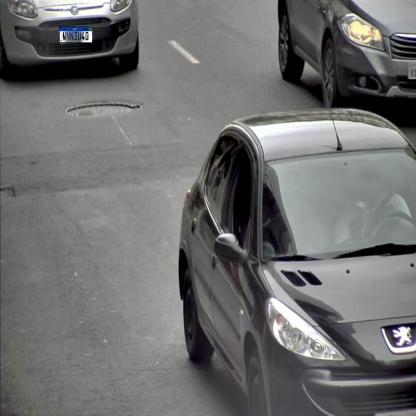PlacaM: (59, 26, 93, 43)
